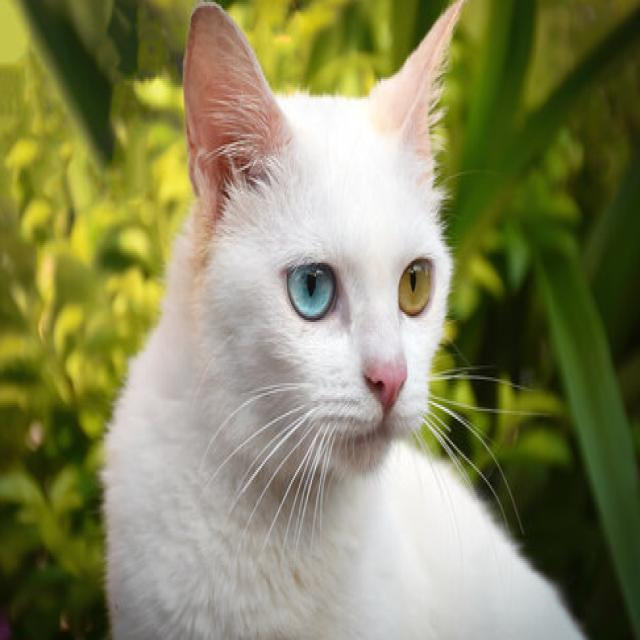Khao Manee: (91, 0, 616, 640)
